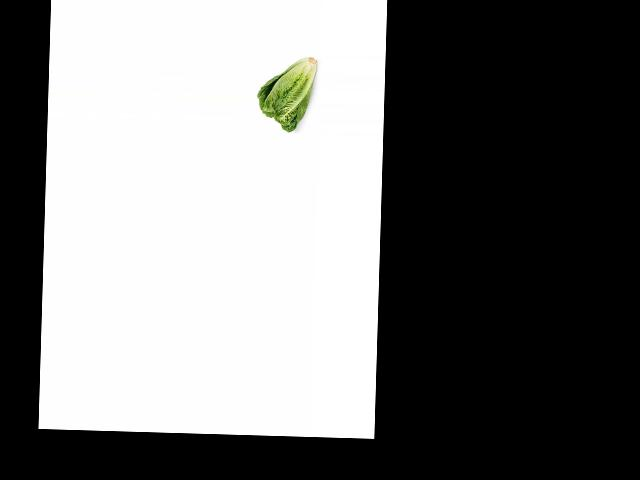lettuce: (257, 50, 319, 132)
